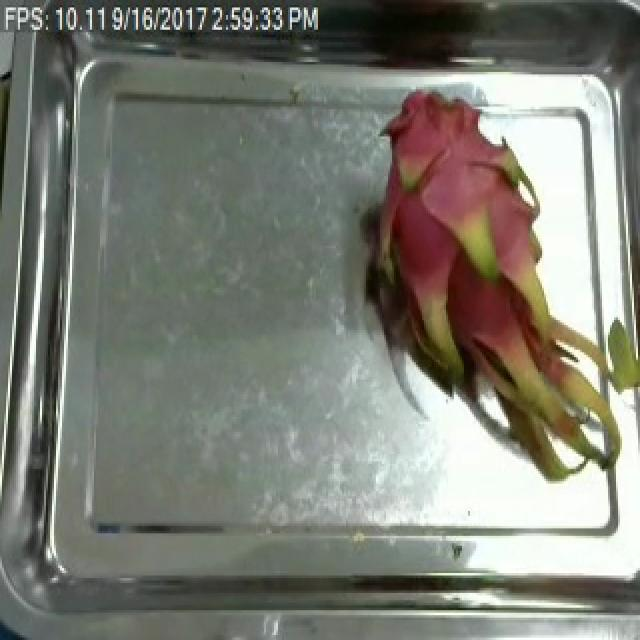fruit: (344, 91, 638, 498)
